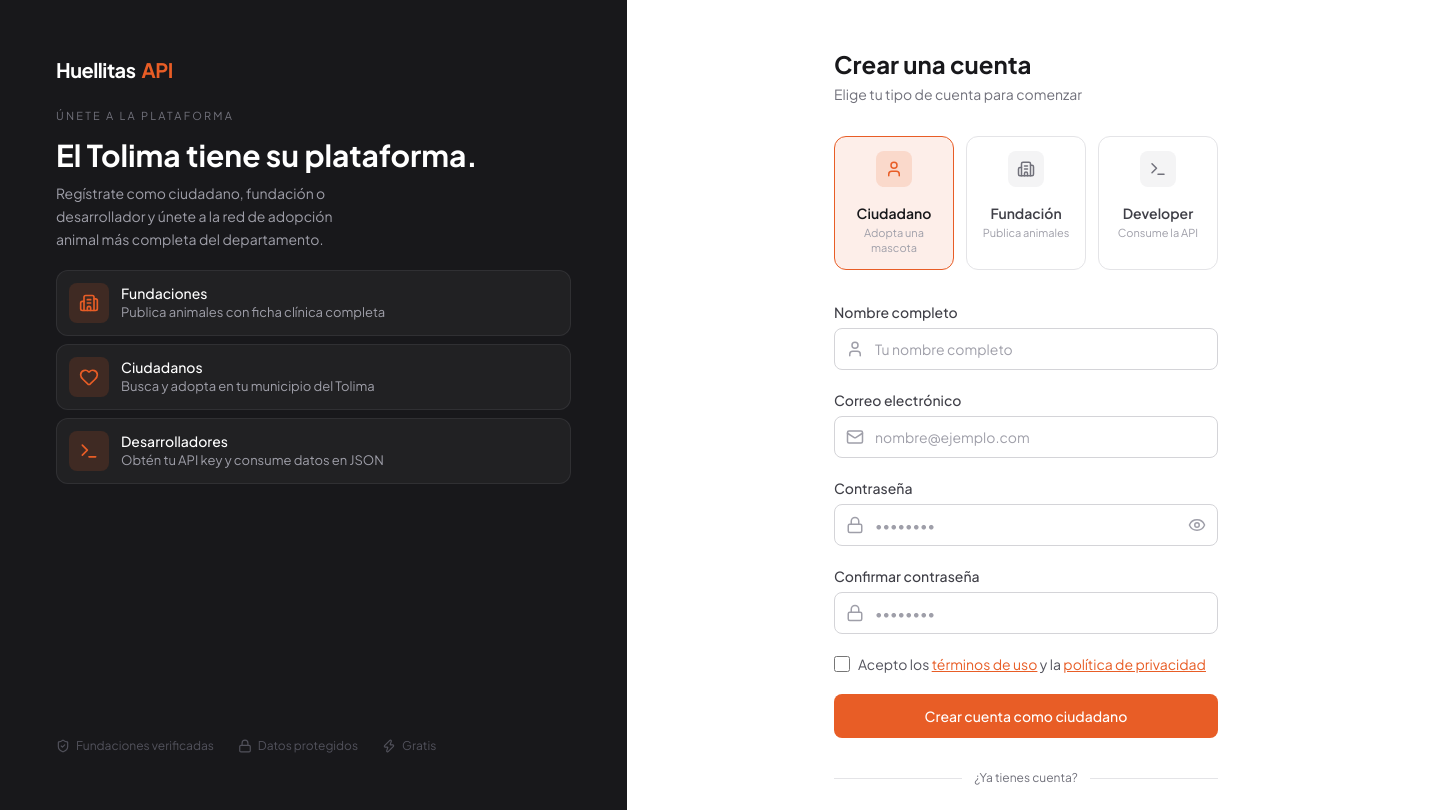
Test: RegisterPage › shows password strength indicator when typing
The image size is (1440, 810).
In the password field labelled "Contraseña": (1026, 525) [834,504,1218,546], type "abc"
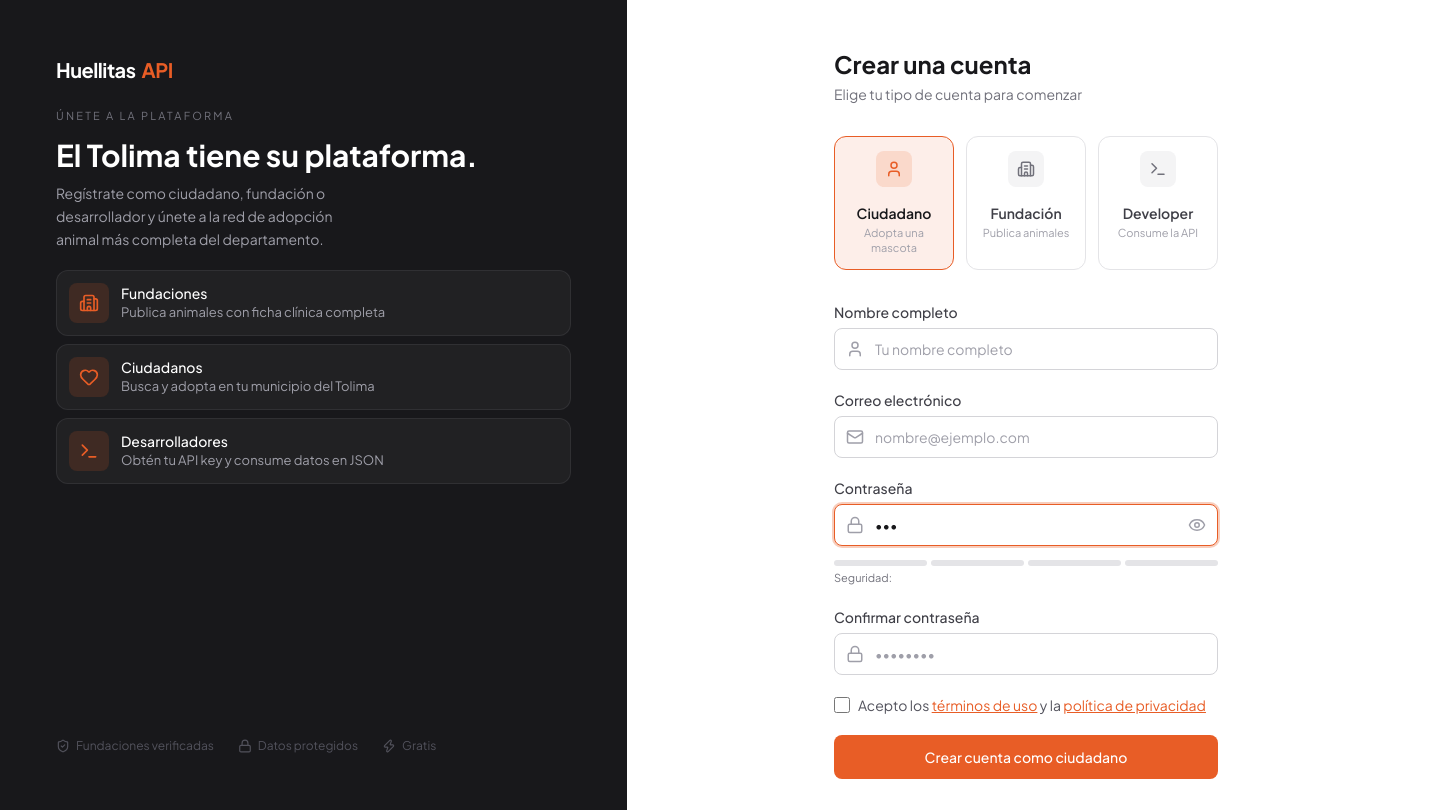
expect the text "Seguridad:" is shown: met, box [834,571,892,584]
